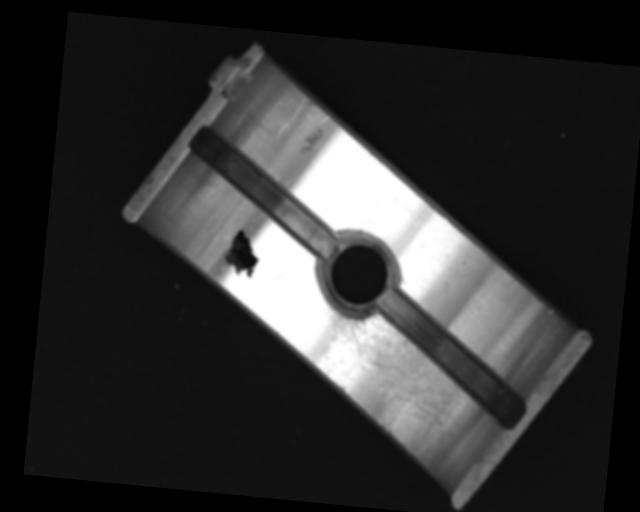blot: (222, 225, 263, 279)
bruise: (297, 125, 326, 157)
gap: (366, 286, 536, 427), (180, 123, 343, 256)
hole: (312, 228, 404, 321)
scratch: (316, 304, 473, 464)
